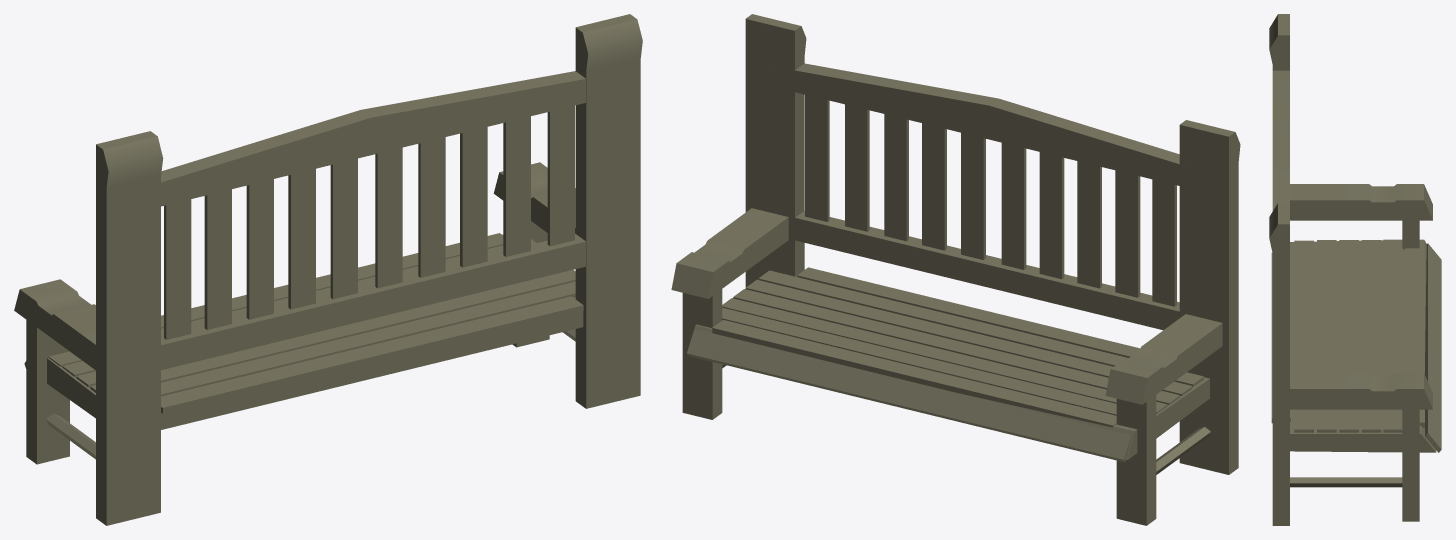
File: FMP_Bench_Shaded.fbx
The picture shows the model from 3 angles, left to right: view 1: azimuth 30°, elevation 25°; view 2: azimuth 150°, elevation 25°; view 3: azimuth 270°, elevation 25°; orthographic projection. The views are drawn at different scales.
Visible parts, largest first — view 1: pCylinder54; view 2: pCylinder54; view 3: pCylinder54.
Boxes of the visible parts, bbox=[...] form: pCylinder54: bbox=[14, 14, 642, 525]; pCylinder54: bbox=[671, 14, 1240, 525]; pCylinder54: bbox=[1269, 14, 1441, 525].
Bounding box in the file's own units: 783 × 523 × 271.
